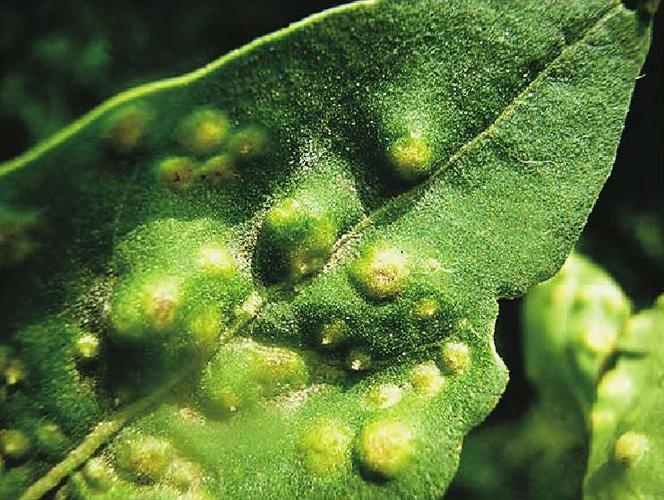Gall_Mite: (111, 74, 456, 388), (218, 341, 445, 480), (23, 377, 162, 466)
